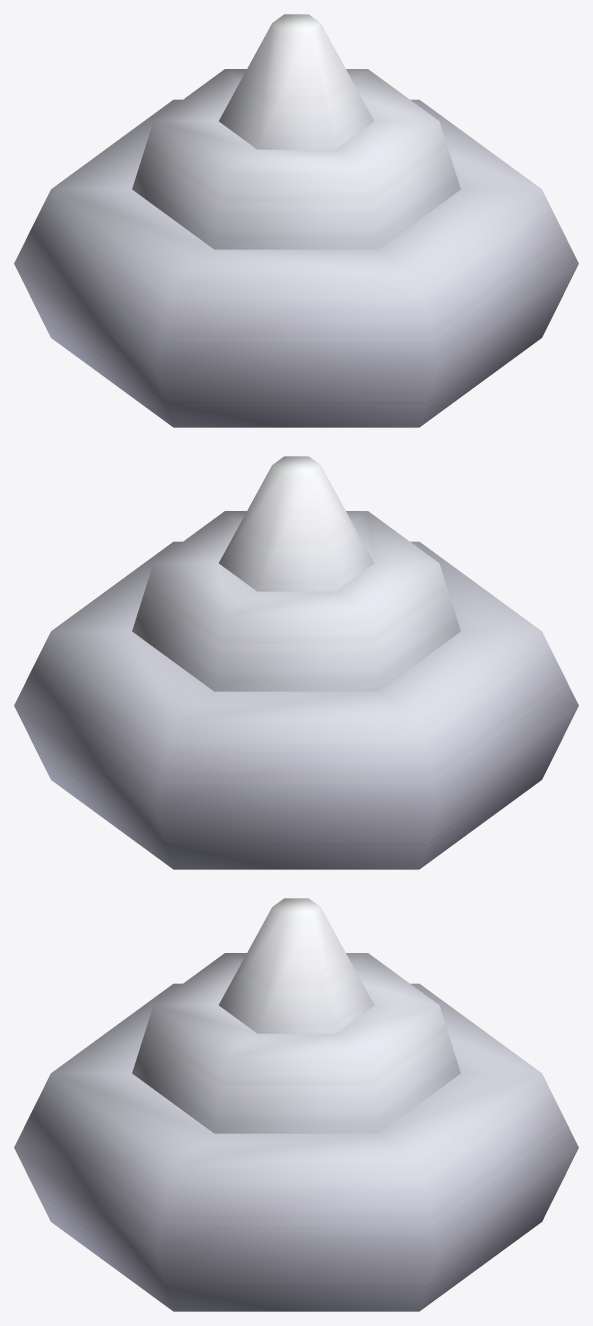
Rendered from food-whipped-cream.glb.
The picture shows the model from 3 angles, top to bottom: view 1: azimuth 30°, elevation 25°; view 2: azimuth 150°, elevation 25°; view 3: azimuth 270°, elevation 25°; orthographic projection.
Visible parts, largest first — view 1: whipped-cream; view 2: whipped-cream; view 3: whipped-cream.
Part boxes in pixels (x1,y1,x2,y2): whipped-cream: [14, 14, 578, 427]; whipped-cream: [14, 456, 578, 869]; whipped-cream: [14, 898, 578, 1311].
Bounding box in the file's own units: 0.1363 × 0.0967 × 0.1573.
1 material, 1 textured.
